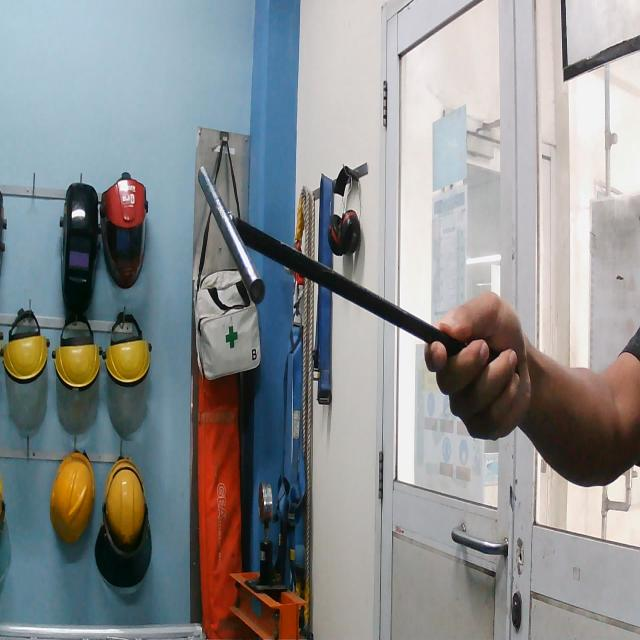kunci_t: (188, 150, 514, 410)
